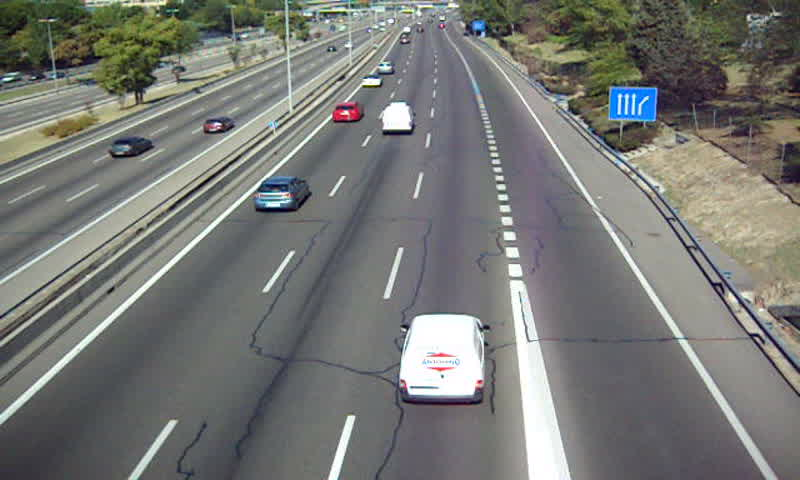car: (252, 176, 308, 210), (332, 102, 362, 124), (361, 74, 382, 88), (377, 61, 392, 75)
van: (399, 314, 486, 402), (381, 102, 416, 133)
